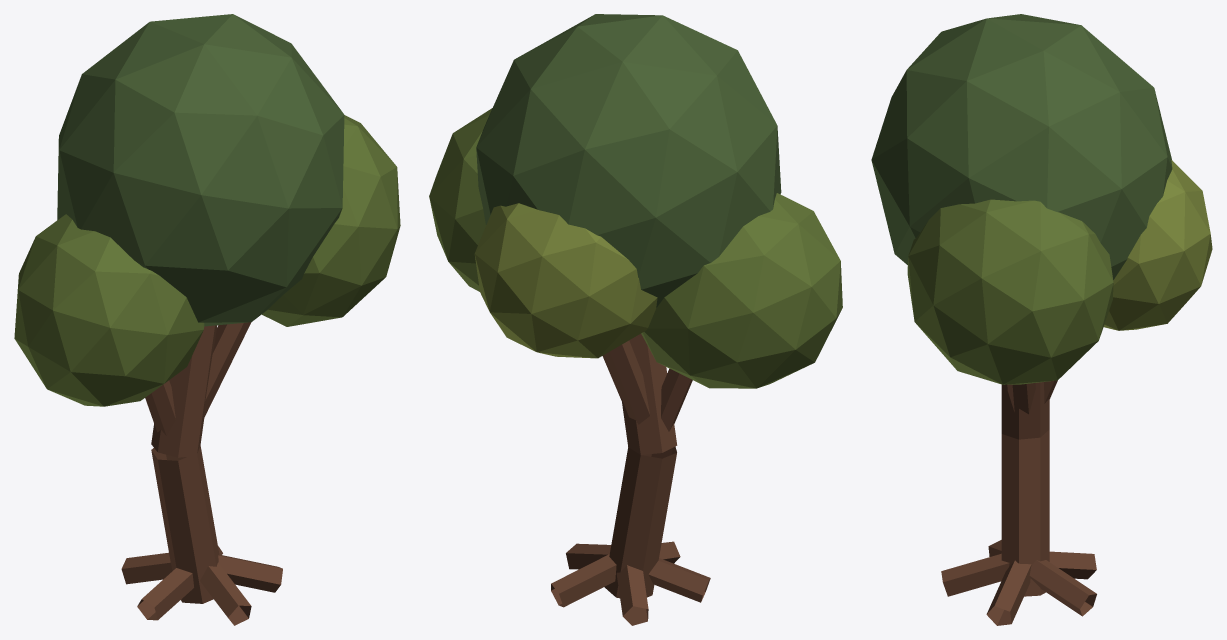
The picture shows the model from 3 angles, left to right: view 1: azimuth 30°, elevation 25°; view 2: azimuth 150°, elevation 25°; view 3: azimuth 270°, elevation 25°; orthographic projection.
Parts seen in each view (by area): view 1: T15_生命树·长卵冠; view 2: T15_生命树·长卵冠; view 3: T15_生命树·长卵冠.
Boxes of the visible parts, box(x1,y1,x2,y2) form: T15_生命树·长卵冠: box(14, 14, 400, 625); T15_生命树·长卵冠: box(429, 14, 842, 625); T15_生命树·长卵冠: box(871, 14, 1212, 625).
Size of the model in its own units: 2.77 by 3.98 by 2.16.
